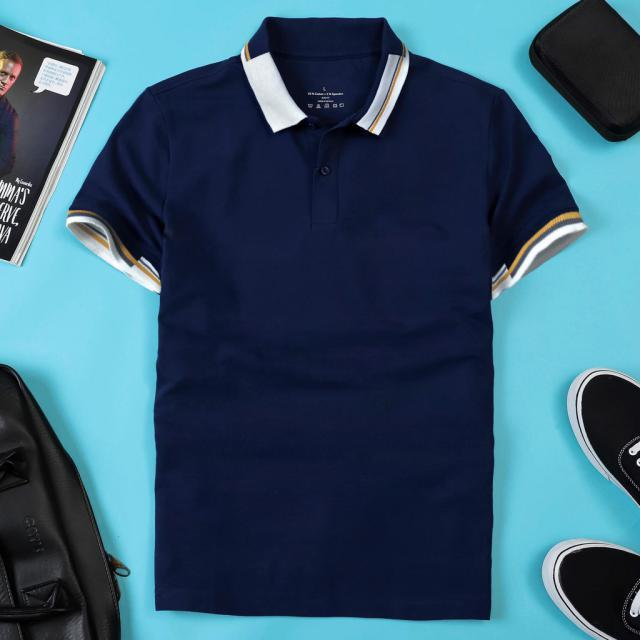Shirt: (64, 31, 594, 626)
